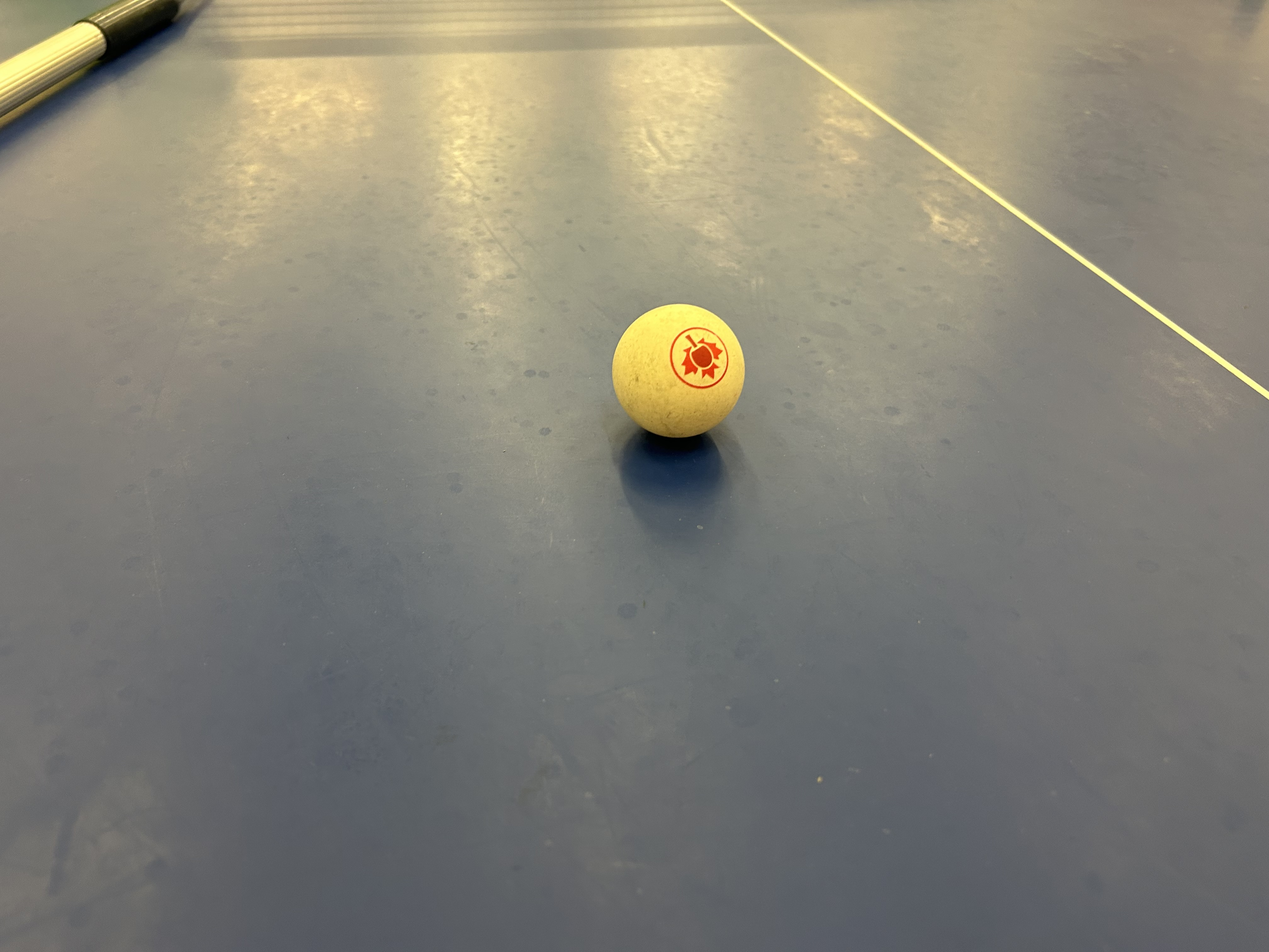Ball: (622, 296, 734, 436)
